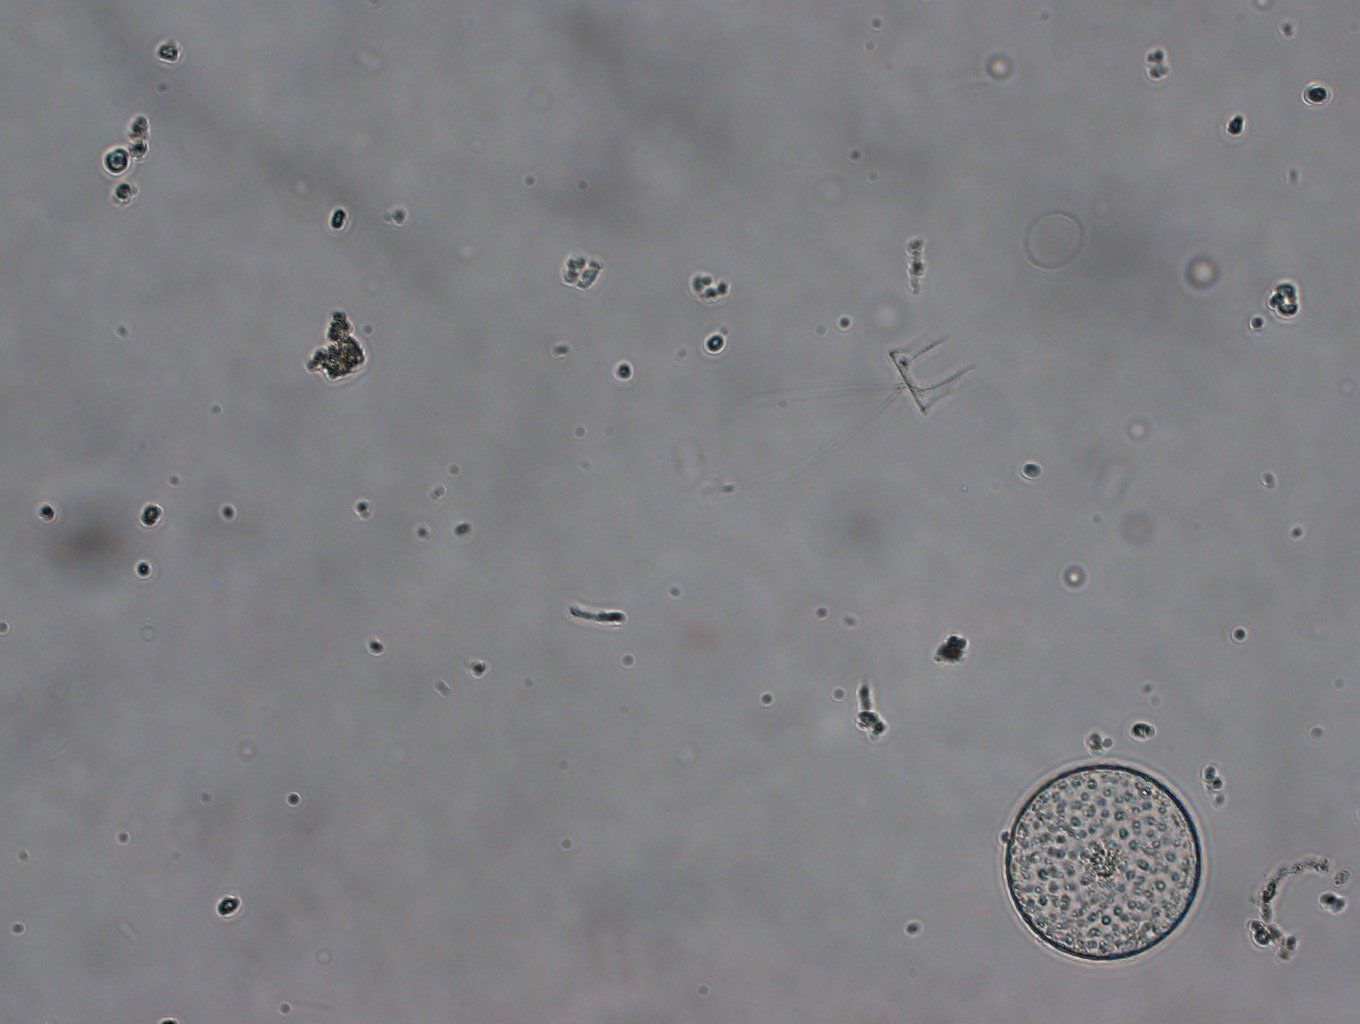coscinodiscus: (997, 755, 1209, 968)
